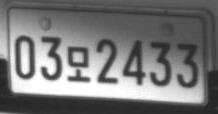0: (14, 35, 35, 79)
2: (96, 38, 118, 84)
3: (39, 35, 63, 81), (149, 40, 172, 86), (176, 43, 199, 89)
4: (122, 40, 146, 85)
모: (66, 45, 91, 82)
